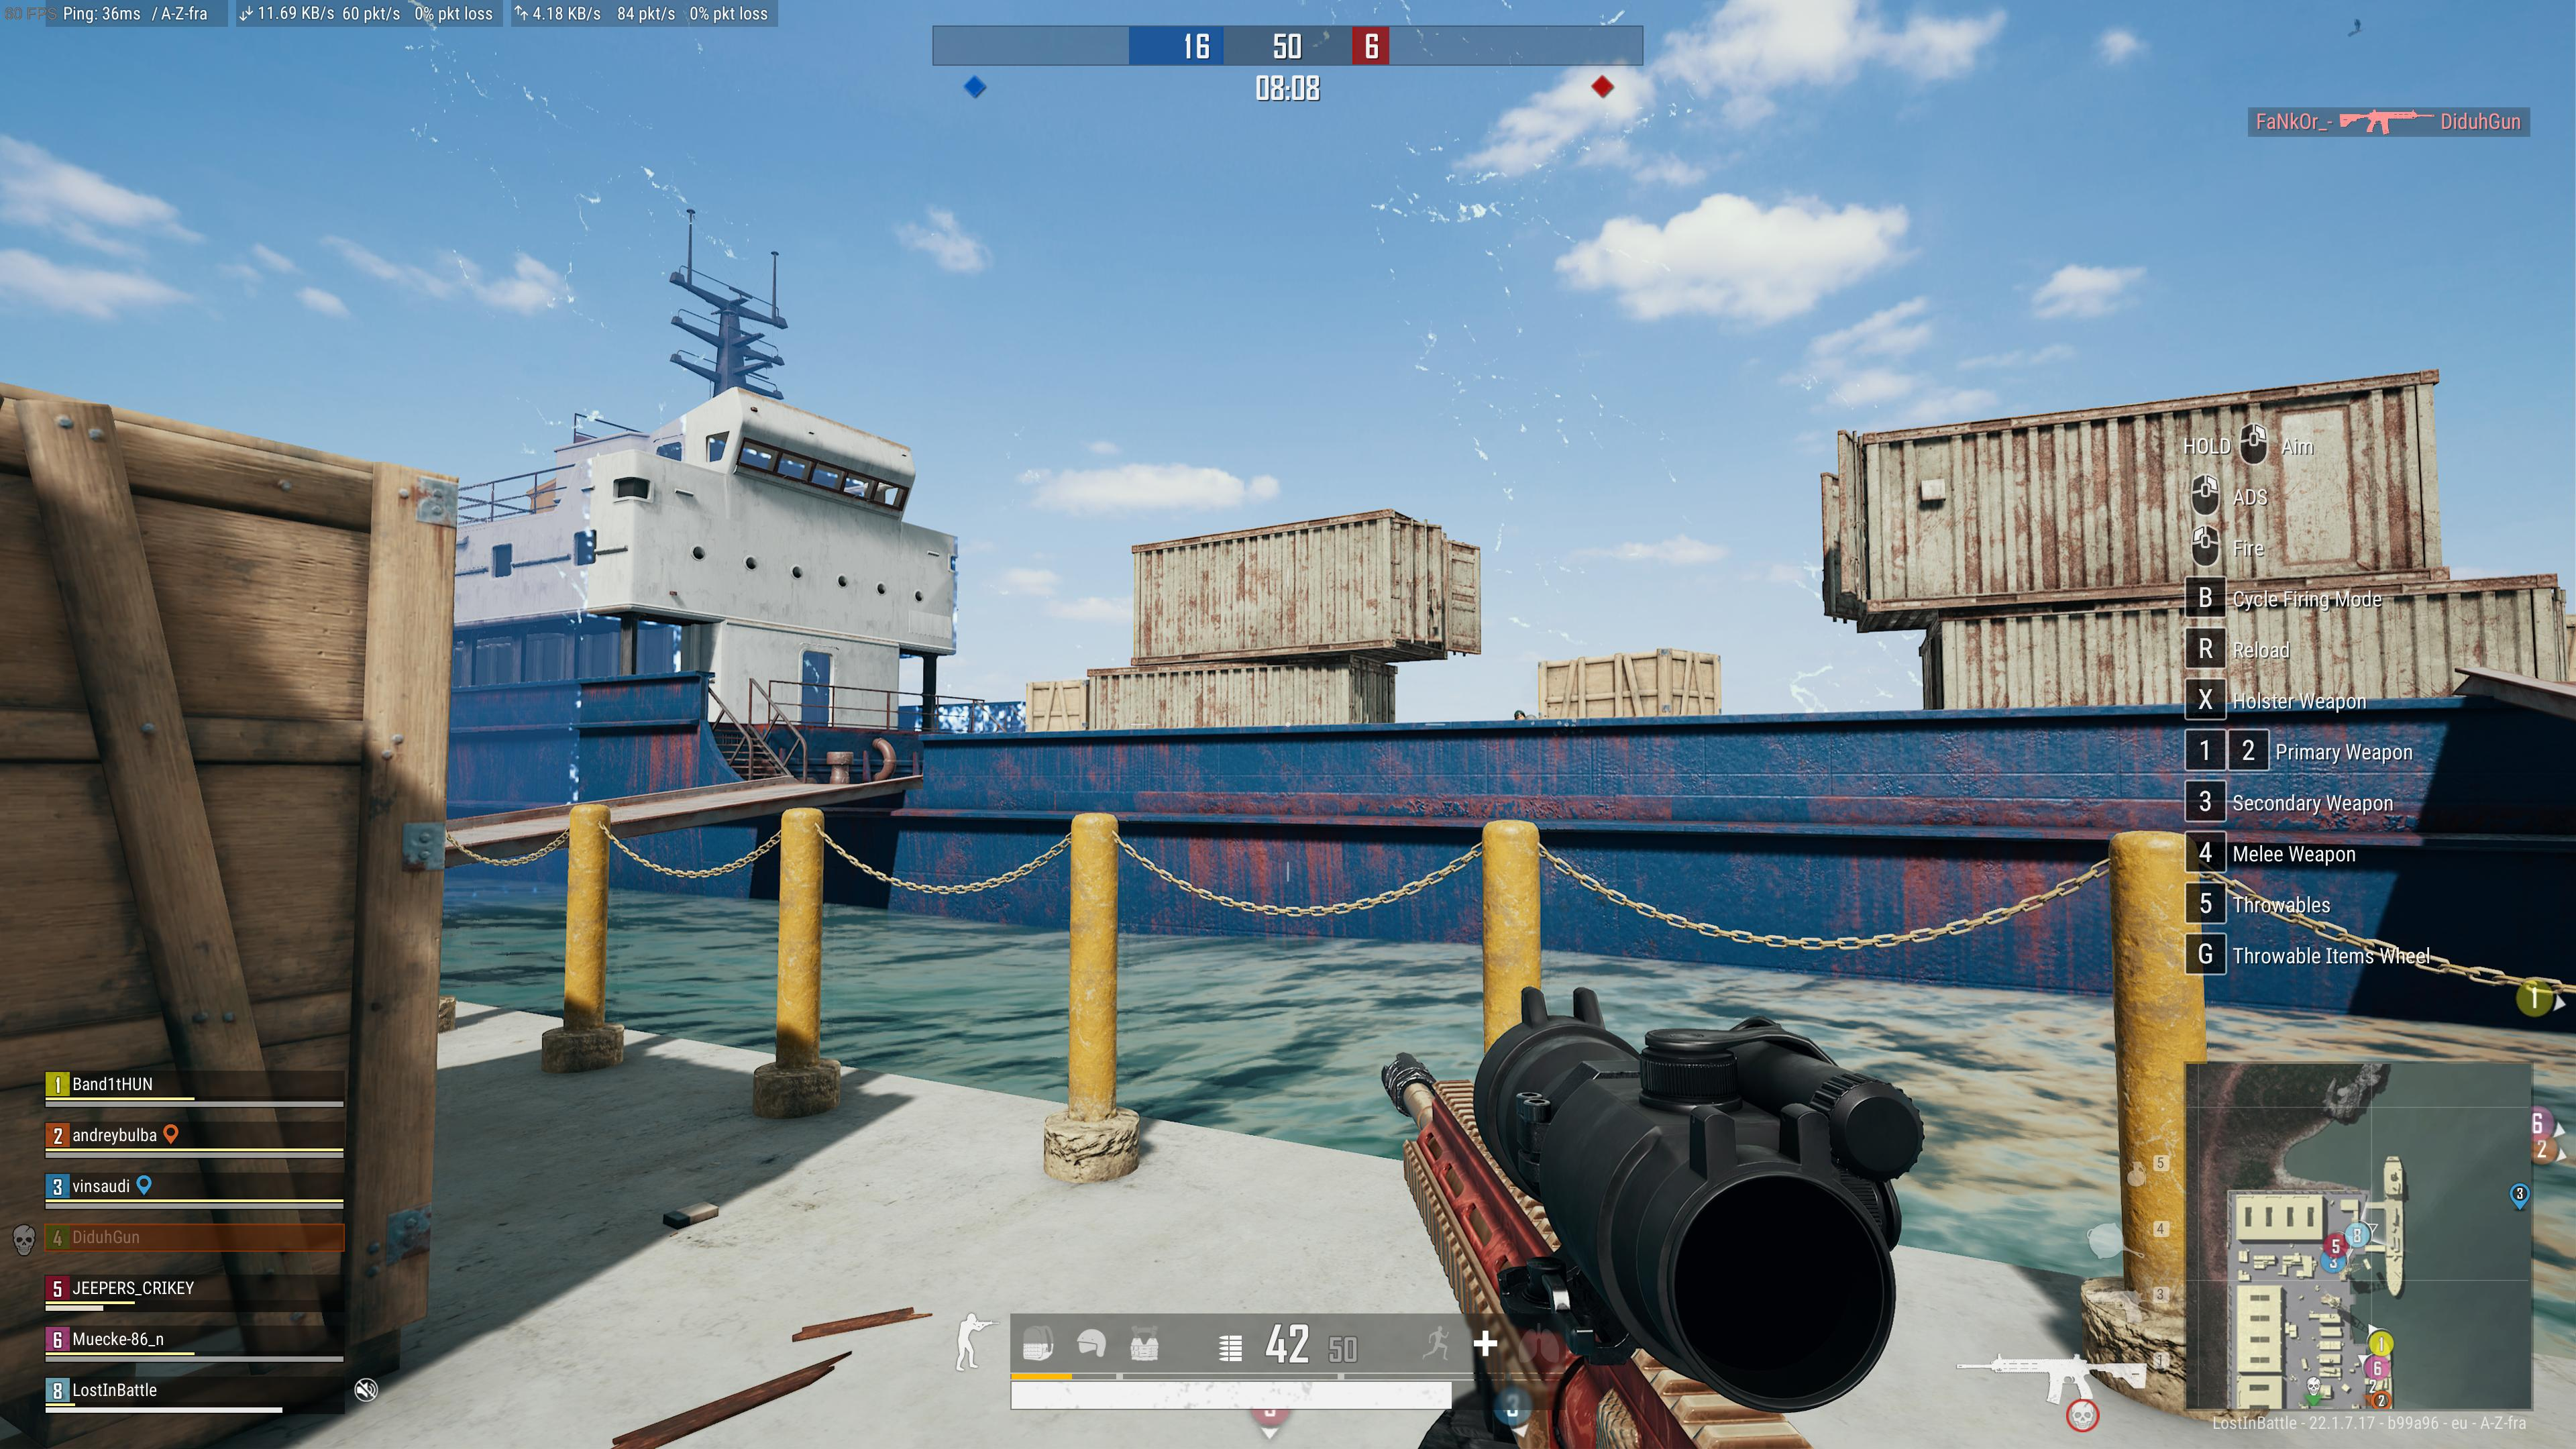enemy_head: (1513, 709, 1525, 720)
